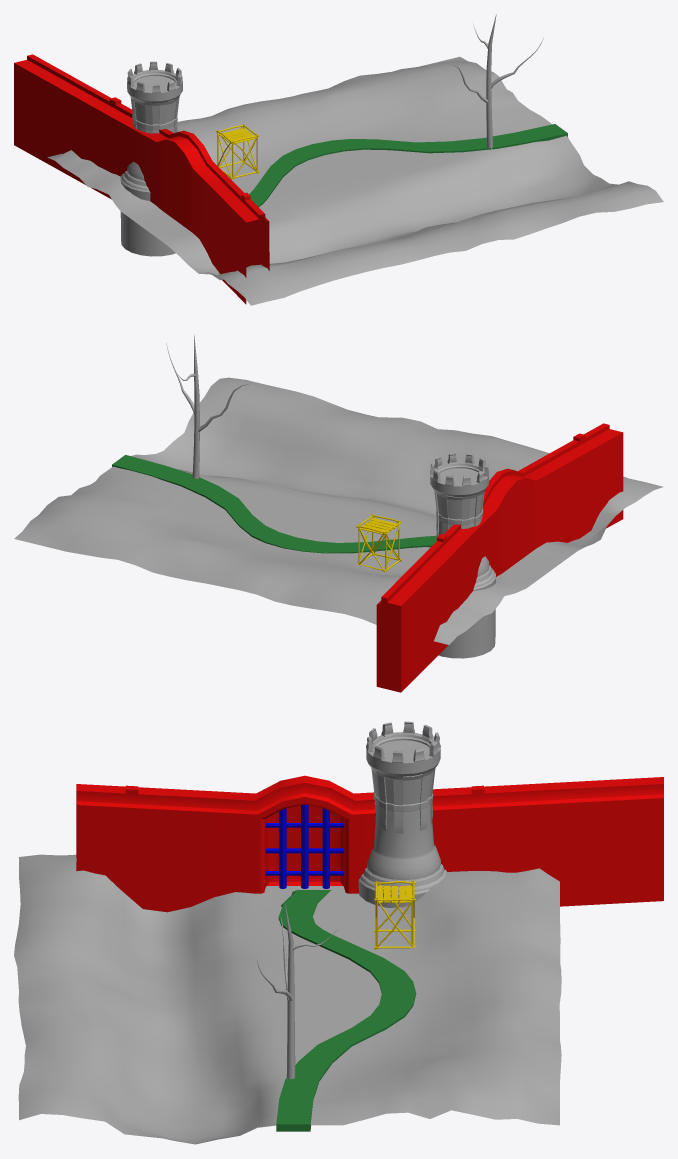
The model's file is 1-1Stage.fbx.
3 views of the same model, one above another, from view 1: azimuth 30°, elevation 25°; view 2: azimuth 150°, elevation 25°; view 3: azimuth 270°, elevation 25° (orthographic). The views are drawn at different scales.
Parts seen in each view (by area): view 1: pPlane1, pCube1, pCylinder19, Path, sweep1; view 2: pPlane1, pCube1, pCylinder19, Path, sweep1; view 3: pPlane1, pCube1, pCylinder19, Path, sweep1, pCylinder3, pCylinder2, pCylinder1.
Boxes of the visible parts, left/top/right/bottom form: pPlane1: left=47, top=56, right=663, bottom=305; pCube1: left=14, top=54, right=269, bottom=304; pCylinder19: left=120, top=61, right=182, bottom=256; Path: left=249, top=124, right=567, bottom=206; sweep1: left=486, top=14, right=496, bottom=149; pPlane1: left=14, top=377, right=663, bottom=644; pCube1: left=376, top=423, right=623, bottom=692; pCylinder19: left=430, top=453, right=495, bottom=658; Path: left=112, top=454, right=436, bottom=553; sweep1: left=192, top=334, right=199, bottom=478; pPlane1: left=14, top=854, right=561, bottom=1144; pCube1: left=76, top=775, right=663, bottom=912; pCylinder19: left=358, top=721, right=447, bottom=907; Path: left=276, top=890, right=416, bottom=1131; sweep1: left=284, top=903, right=295, bottom=1079; pCylinder3: left=301, top=804, right=308, bottom=888; pCylinder2: left=322, top=808, right=329, bottom=888; pCylinder1: left=279, top=808, right=286, bottom=888.
Size of the model in its own units: 2991 by 1299 by 3066.
